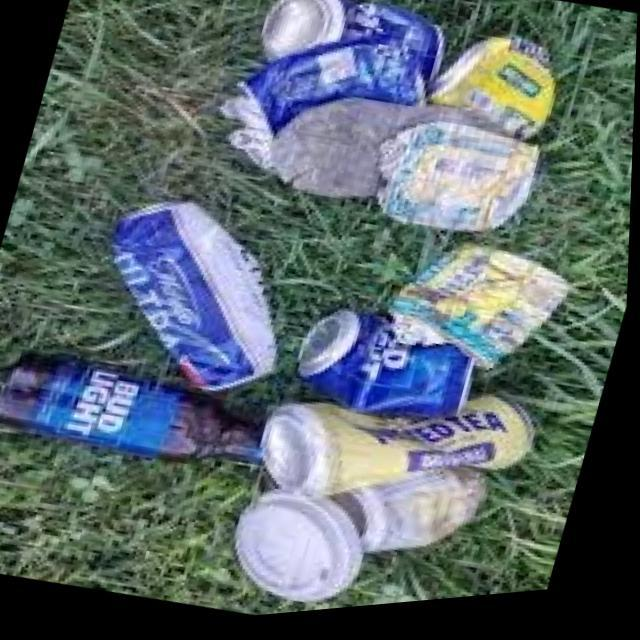clothes: (73, 179, 320, 418), (260, 355, 541, 555), (277, 296, 524, 466), (208, 69, 436, 248), (214, 10, 432, 187), (350, 92, 559, 266), (237, 0, 461, 114), (428, 18, 590, 150)
foam box: (0, 316, 298, 492)
leaf: (231, 434, 494, 622)
